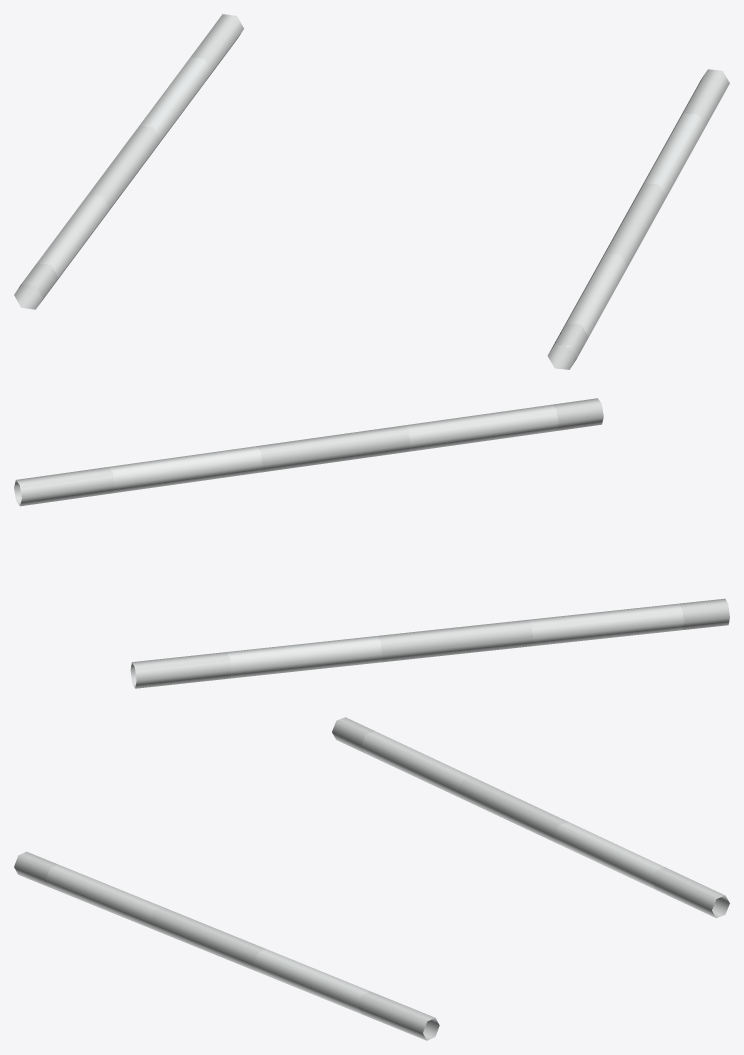
File: nycsignalarm_diagonal12_c6.obj
3 views of the same model, one above another, from view 1: azimuth 30°, elevation 25°; view 2: azimuth 150°, elevation 25°; view 3: azimuth 270°, elevation 25° (orthographic). The views are drawn at different scales.
Visible parts, largest first — view 1: nycsignalarm_diagonal12_c6; view 2: nycsignalarm_diagonal12_c6; view 3: nycsignalarm_diagonal12_c6.
Part boxes in pixels (x1=…): nycsignalarm_diagonal12_c6: x1=14, y1=14, x2=729, y2=369; nycsignalarm_diagonal12_c6: x1=14, y1=398, x2=729, y2=688; nycsignalarm_diagonal12_c6: x1=14, y1=717, x2=729, y2=1040.
Size of the model in its own units: 1.81 by 0.0696 by 1.81.
